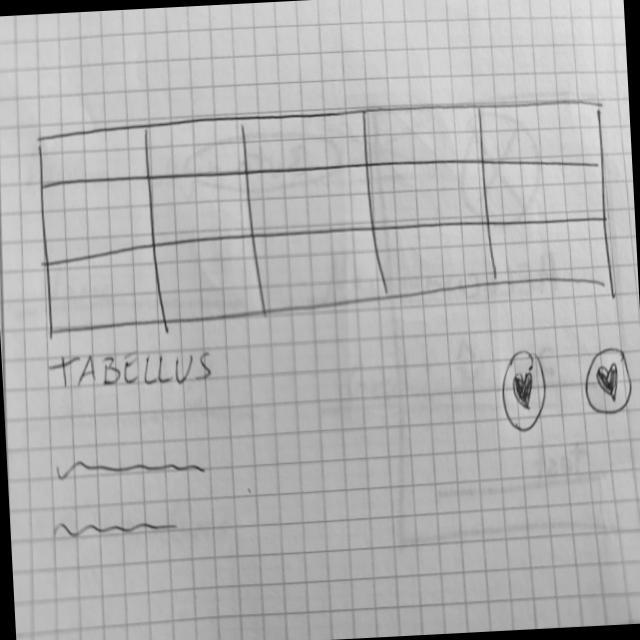icon-button: (500, 348, 551, 438), (583, 346, 635, 420)
label: (47, 345, 217, 397)
table: (34, 91, 619, 338)
text: (54, 449, 208, 489), (51, 511, 184, 547)
